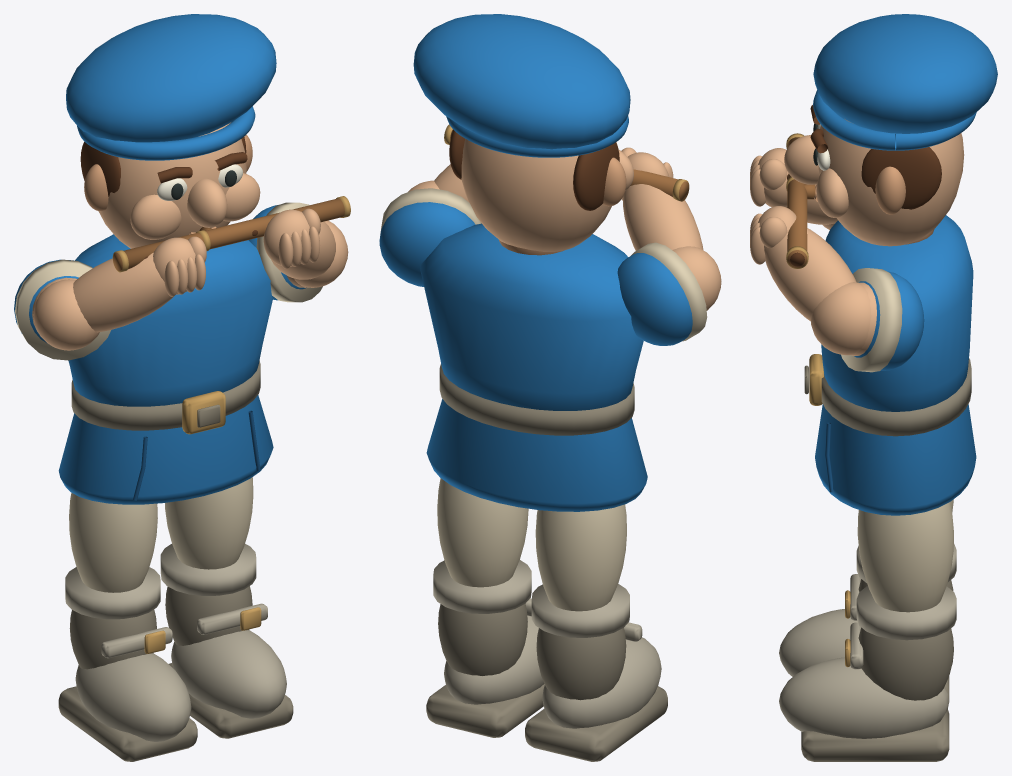
The model's file is muzikant_junior.glb.
The picture shows the model from 3 angles, left to right: view 1: azimuth 30°, elevation 25°; view 2: azimuth 150°, elevation 25°; view 3: azimuth 270°, elevation 25°; orthographic projection. The views are drawn at different scales.
Parts seen in each view (by area): view 1: TEAM_Felt_beret, Tunic_torso, Tunic_skirt, Boot_toe, Boot_toe.001, Trouser_leg, Trouser_leg.001, Head, Flute_lower_hand_Forearm, Belt, Beret_soft_band, Boot_sole (+21 smaller); view 2: Tunic_torso, TEAM_Felt_beret, Tunic_skirt, Head, Trouser_leg, Trouser_leg.001, Boot_shaft.001, Boot_shaft, Belt, Flute_lower_hand_Felt_sleeve, Boot_toe, Flute_upper_hand_Felt_sleeve (+15 smaller); view 3: TEAM_Felt_beret, Tunic_torso, Tunic_skirt, Boot_toe.001, Trouser_leg.001, Head, Boot_shaft.001, Boot_sole.001, Flute_upper_hand_Forearm, Belt, Flute_upper_hand_Elbow, Boot_cuff.001 (+17 smaller).
Boxes of the visible parts, x1,y1,x2,y2 form: TEAM_Felt_beret: (66, 14, 276, 142); Tunic_torso: (68, 234, 272, 406); Tunic_skirt: (58, 395, 273, 504); Boot_toe: (75, 653, 191, 741); Boot_toe.001: (171, 630, 286, 718); Trouser_leg: (69, 493, 157, 592); Trouser_leg.001: (165, 477, 253, 569); Head: (98, 122, 246, 248); Flute_lower_hand_Forearm: (73, 252, 173, 332); Belt: (71, 361, 260, 430); Beret_soft_band: (77, 106, 255, 160); Boot_sole: (58, 686, 197, 761); Tunic_torso: (420, 223, 643, 410); TEAM_Felt_beret: (413, 14, 630, 149); Tunic_skirt: (426, 399, 647, 511); Head: (461, 139, 618, 251); Trouser_leg: (535, 504, 626, 611); Trouser_leg.001: (437, 478, 528, 587); Boot_shaft.001: (438, 603, 527, 675); Boot_shaft: (536, 628, 626, 700); Belt: (439, 364, 634, 435); Flute_lower_hand_Felt_sleeve: (617, 253, 692, 345); Boot_toe: (542, 637, 661, 728); Flute_upper_hand_Felt_sleeve: (379, 202, 475, 286); TEAM_Felt_beret: (813, 14, 997, 133); Tunic_torso: (821, 215, 973, 411); Tunic_skirt: (815, 404, 976, 515); Boot_toe.001: (779, 657, 949, 738); Trouser_leg.001: (857, 502, 953, 612); Head: (818, 119, 964, 246); Boot_shaft.001: (858, 627, 953, 700); Boot_sole.001: (801, 709, 949, 761); Flute_upper_hand_Forearm: (765, 228, 856, 320); Belt: (821, 358, 971, 436); Flute_upper_hand_Elbow: (810, 282, 871, 355); Boot_cuff.001: (856, 586, 956, 640).
Bounding box in the file's own units: 1.02 × 2.09 × 0.669.
